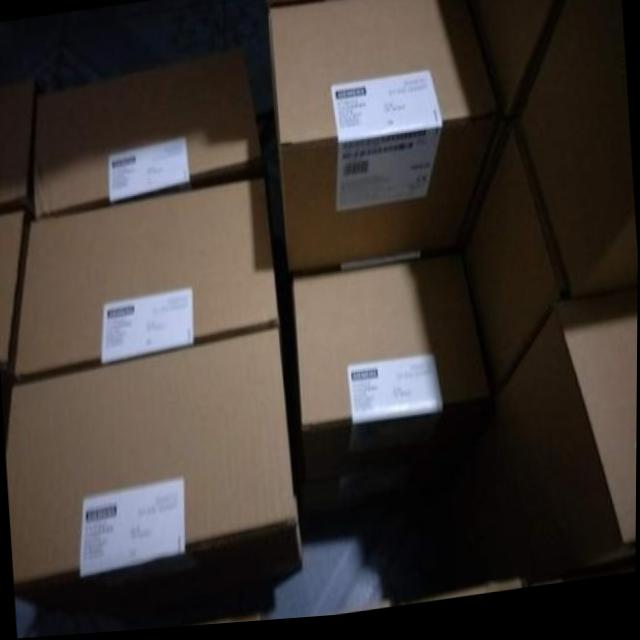box: (6, 332, 305, 623), (268, 0, 499, 282), (14, 183, 279, 384), (294, 260, 491, 487), (495, 292, 638, 591), (34, 51, 263, 218), (521, 0, 638, 303), (463, 133, 574, 402), (469, 0, 566, 121), (304, 464, 468, 531), (0, 78, 45, 207), (0, 212, 25, 372)
